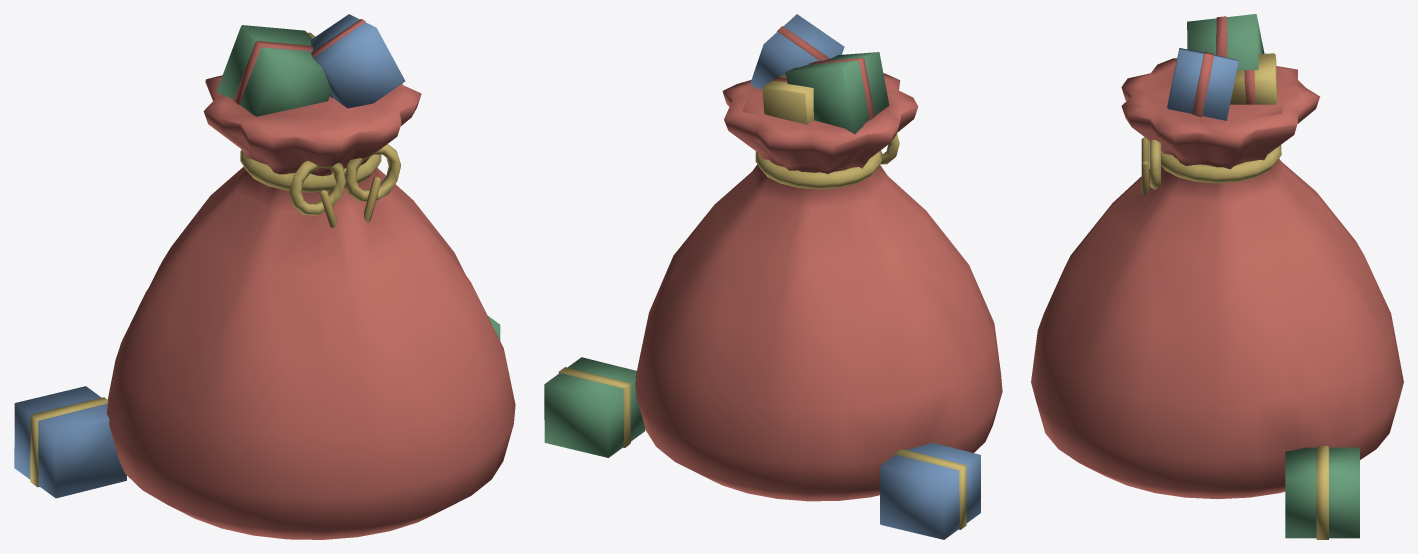
Rendered from xmas_gift_sack_low.glb.
The picture shows the model from 3 angles, left to right: view 1: azimuth 30°, elevation 25°; view 2: azimuth 150°, elevation 25°; view 3: azimuth 270°, elevation 25°; orthographic projection. The views are drawn at different scales.
Bounding box in the file's own units: 0.9819 × 0.9458 × 0.78.
